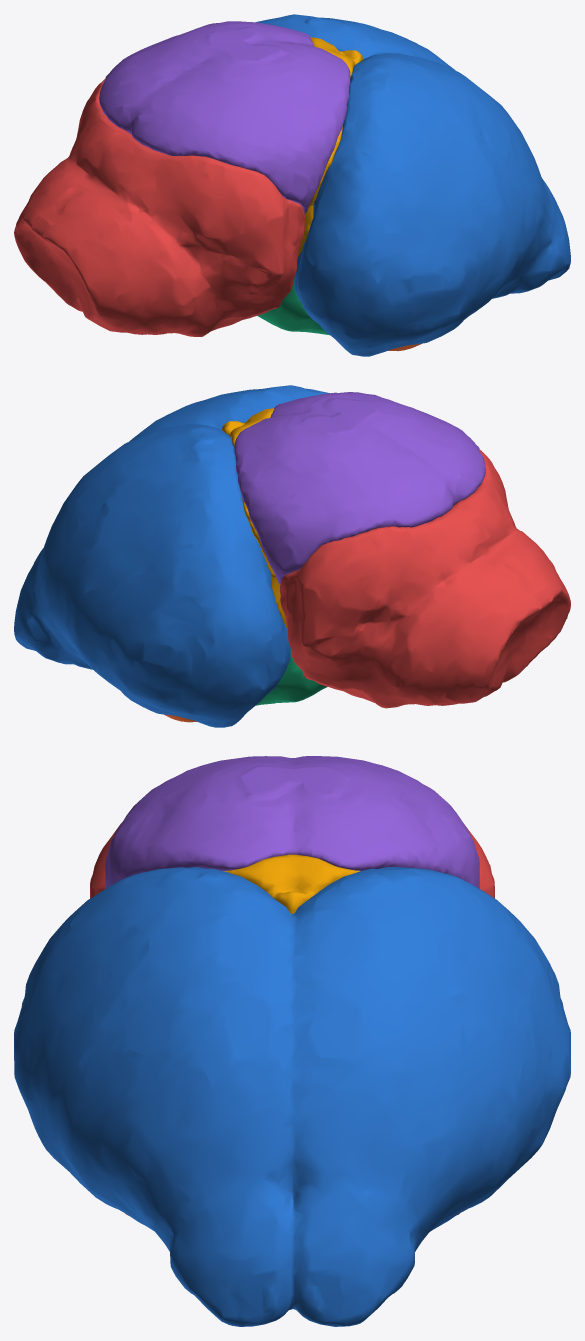
3 views of the same model, one above another, from view 1: azimuth 30°, elevation 25°; view 2: azimuth 150°, elevation 25°; view 3: azimuth 270°, elevation 25° (orthographic). The views are drawn at different scales.
Parts seen in each view (by area): view 1: pallium, hindbrain, midbrain, hypothalamus, diencephalon; view 2: pallium, hindbrain, midbrain, hypothalamus, diencephalon; view 3: pallium, midbrain, diencephalon, hindbrain.
Part boxes in pixels (<box>): pallium: <box>256,14,570,356</box>; hindbrain: <box>14,79,304,336</box>; midbrain: <box>99,21,350,213</box>; hypothalamus: <box>257,277,329,335</box>; diencephalon: <box>297,37,363,257</box>; pallium: <box>14,385,329,727</box>; hindbrain: <box>280,450,570,708</box>; midbrain: <box>234,392,485,584</box>; hypothalamus: <box>256,648,327,705</box>; diencephalon: <box>222,408,287,629</box>; pallium: <box>14,867,570,1326</box>; midbrain: <box>105,756,479,888</box>; diencephalon: <box>223,854,360,913</box>; hindbrain: <box>90,823,494,898</box>.
Bounding box in the file's own units: 7910 × 4415 × 5852.
